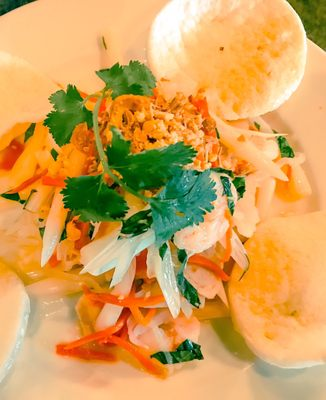curry: (43, 84, 94, 147), (96, 59, 157, 99)
